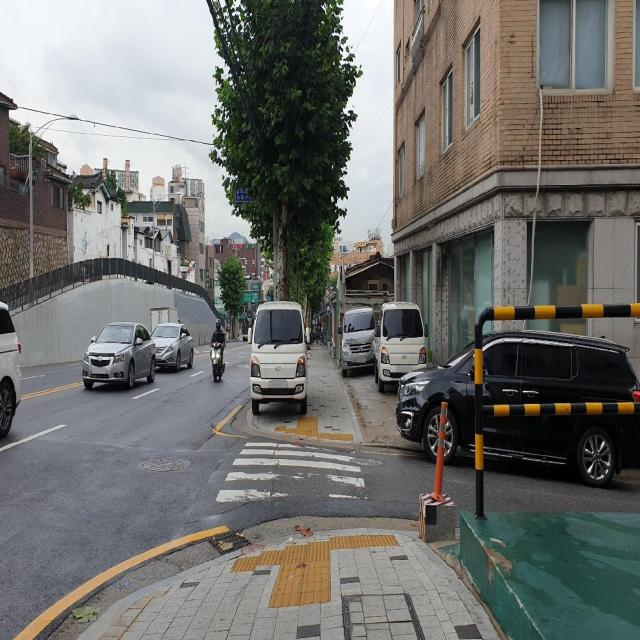zebra crossing ahead at: (216, 433, 378, 528)
